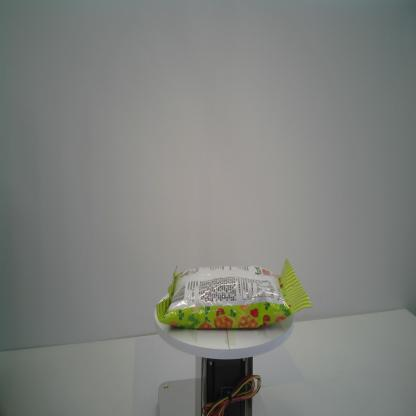Puffed Food: (154, 258, 313, 330)
